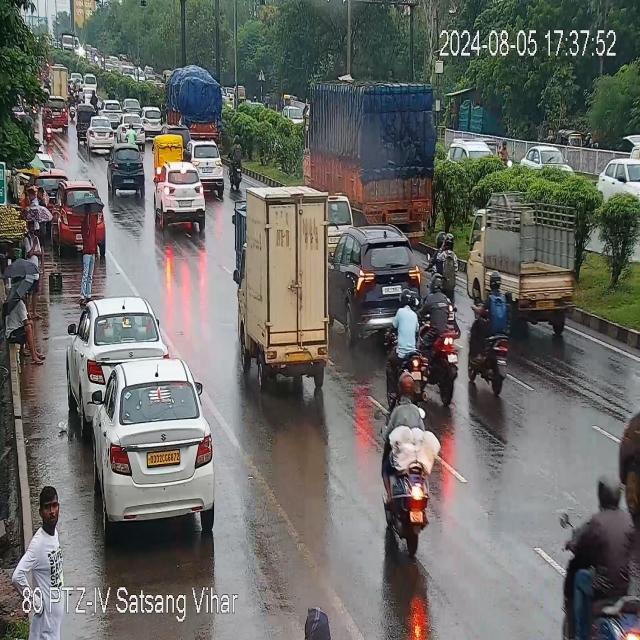2-wheelers: (560, 453, 640, 640), (383, 382, 445, 566), (382, 282, 458, 405), (465, 282, 513, 400), (423, 233, 457, 297)
auto: (155, 134, 186, 181)
car: (92, 360, 220, 528), (69, 296, 163, 403), (336, 230, 419, 327), (54, 182, 111, 256), (152, 183, 208, 234), (596, 151, 640, 213), (189, 142, 230, 194), (108, 148, 147, 196), (525, 141, 574, 178), (88, 120, 118, 153), (36, 182, 46, 206)
pedestrian: (16, 475, 68, 631), (23, 215, 44, 321), (77, 203, 96, 293)
truck: (308, 82, 446, 250), (235, 178, 335, 393), (467, 189, 592, 336), (170, 68, 223, 134)
